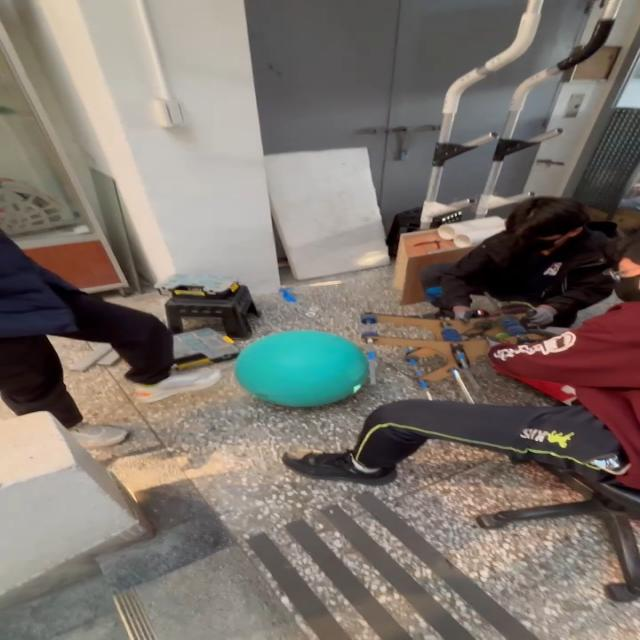ALGAE: (231, 328, 371, 408)
